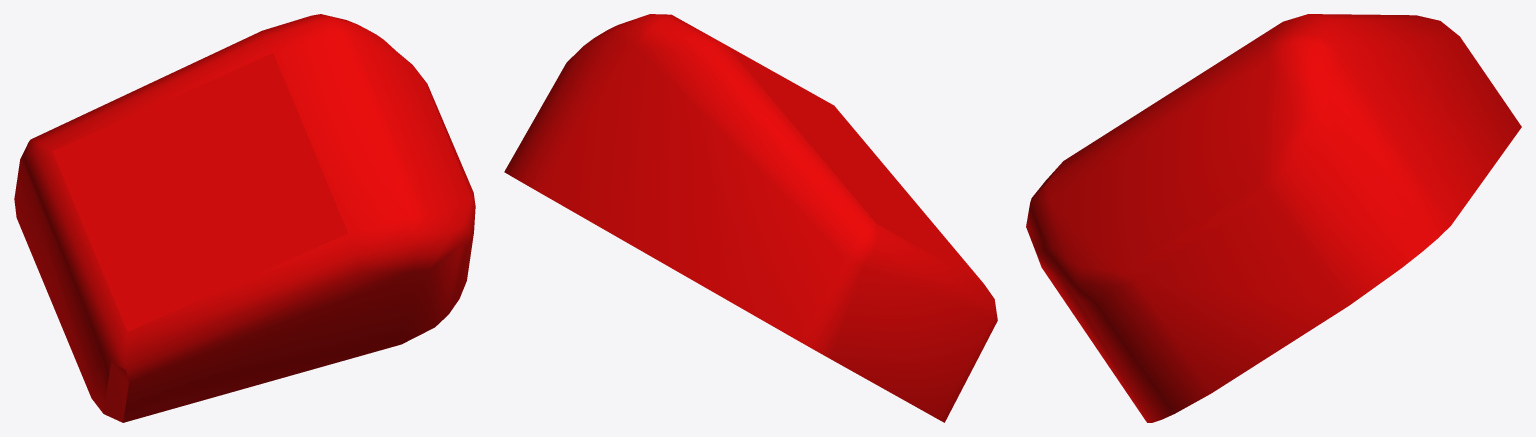
File: rafale_highlight_04_DAL_droite.fbx
3 renders of one model, left to right at view 1: azimuth 30°, elevation 25°; view 2: azimuth 150°, elevation 25°; view 3: azimuth 270°, elevation 25°, orthographic. The views are drawn at different scales.
Visible parts, largest first — view 1: rafale_highlight_04_DAL_droite; view 2: rafale_highlight_04_DAL_droite; view 3: rafale_highlight_04_DAL_droite.
Part boxes in pixels (x1,y1,x2,y2): rafale_highlight_04_DAL_droite: (14, 14, 475, 422); rafale_highlight_04_DAL_droite: (504, 14, 997, 422); rafale_highlight_04_DAL_droite: (1026, 14, 1521, 422).
Size of the model in its own units: 4.82 by 4 by 4.29.
